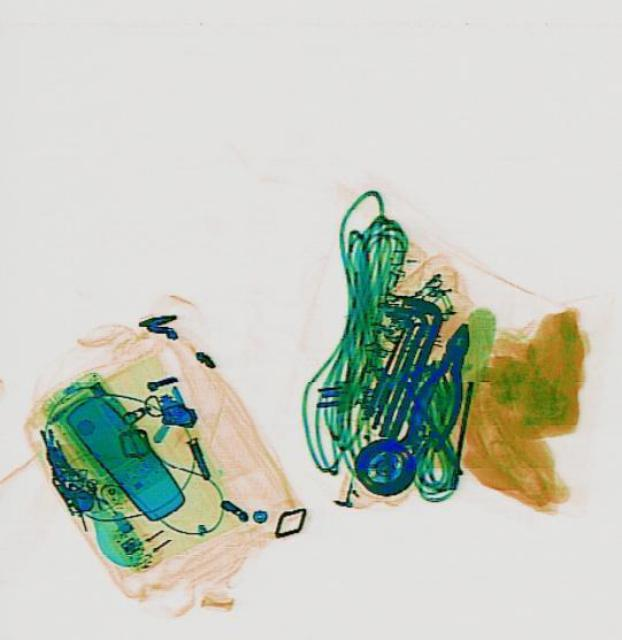Pliers: (394, 314, 487, 458)
